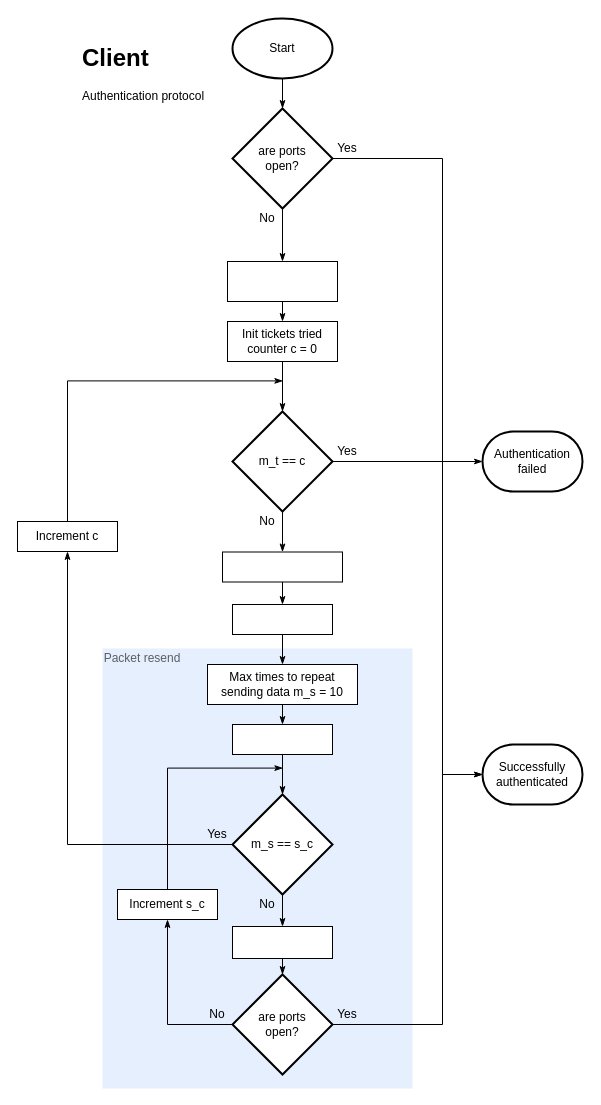
Image size: 601x1105. Some labels were removed from this diagram. The centre of each missing label's shape, as x and y in pixels:
"Encrypt data" goes at (282,619).
"Generate (n - c)th ticket" goes at (282,566).
"Init sent counter s_c = 0" goes at (282,739).
"Max tickets to try limit m_t = 3" goes at (282,281).
"Send data using UPD" goes at (282,942).
